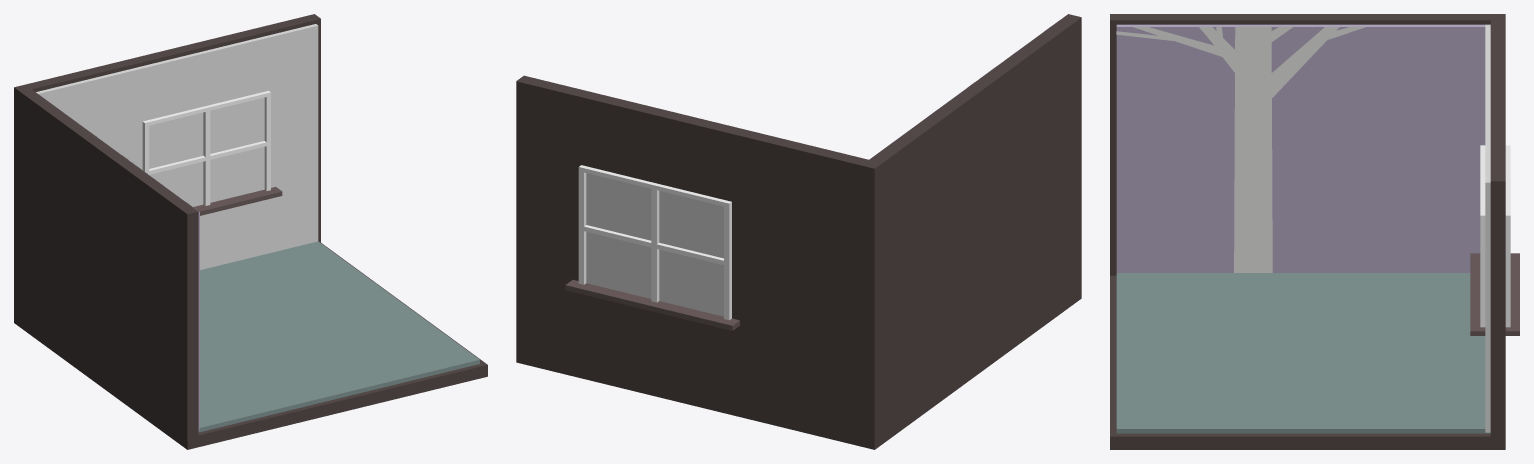
File: Furn1_wall_floor_color2.fbx
The picture shows the model from 3 angles, left to right: view 1: azimuth 30°, elevation 25°; view 2: azimuth 150°, elevation 25°; view 3: azimuth 270°, elevation 25°; orthographic projection. The views are drawn at different scales.
Parts seen in each view (by area): view 1: Куб.036, Куб.035, Куб.071, Куб.074; view 2: Куб.036, Куб.071, Куб.035, Куб.074; view 3: Куб.036, Куб.035, Плоскость.009, Куб.071, Куб.074.
Part boxes in pixels (box(x1,y1,x2,y2)): Куб.036: box(14, 14, 320, 440); Куб.035: box(14, 241, 487, 449); Куб.071: box(142, 90, 270, 206); Куб.074: box(193, 187, 282, 215); Куб.036: box(516, 14, 1081, 439); Куб.071: box(578, 165, 731, 320); Куб.035: box(516, 288, 1081, 449); Куб.074: box(565, 279, 739, 330); Куб.036: box(1110, 14, 1505, 439); Куб.035: box(1110, 273, 1505, 449); Плоскость.009: box(1116, 26, 1365, 272); Куб.071: box(1480, 145, 1510, 327); Куб.074: box(1470, 253, 1519, 335).
Bounding box in the file's own units: 911 × 682 × 943.
